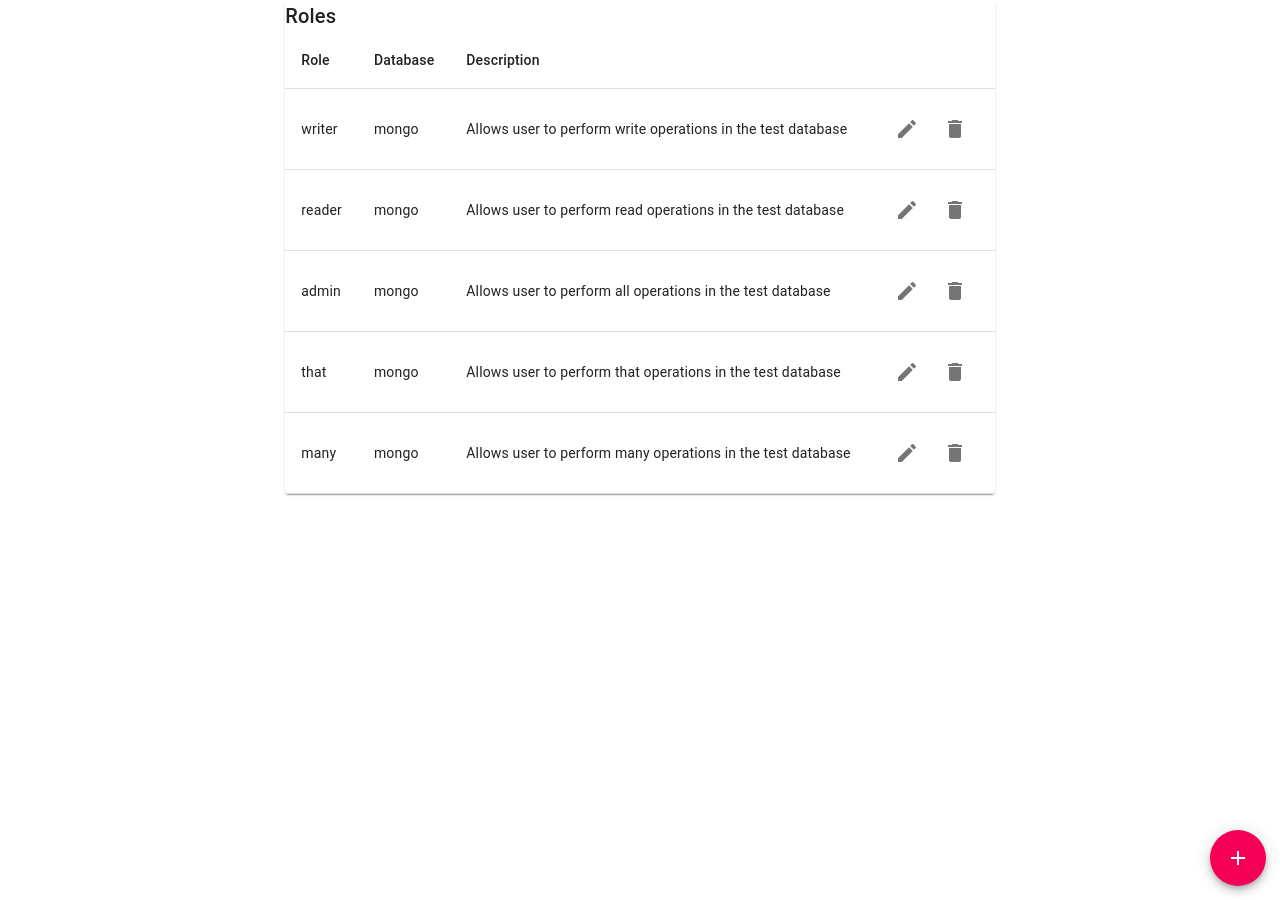
Test: Roles page › deletes a role
Click the button named "delete" in the row of "writer".
click(955, 129)  # box [931, 105, 979, 153]
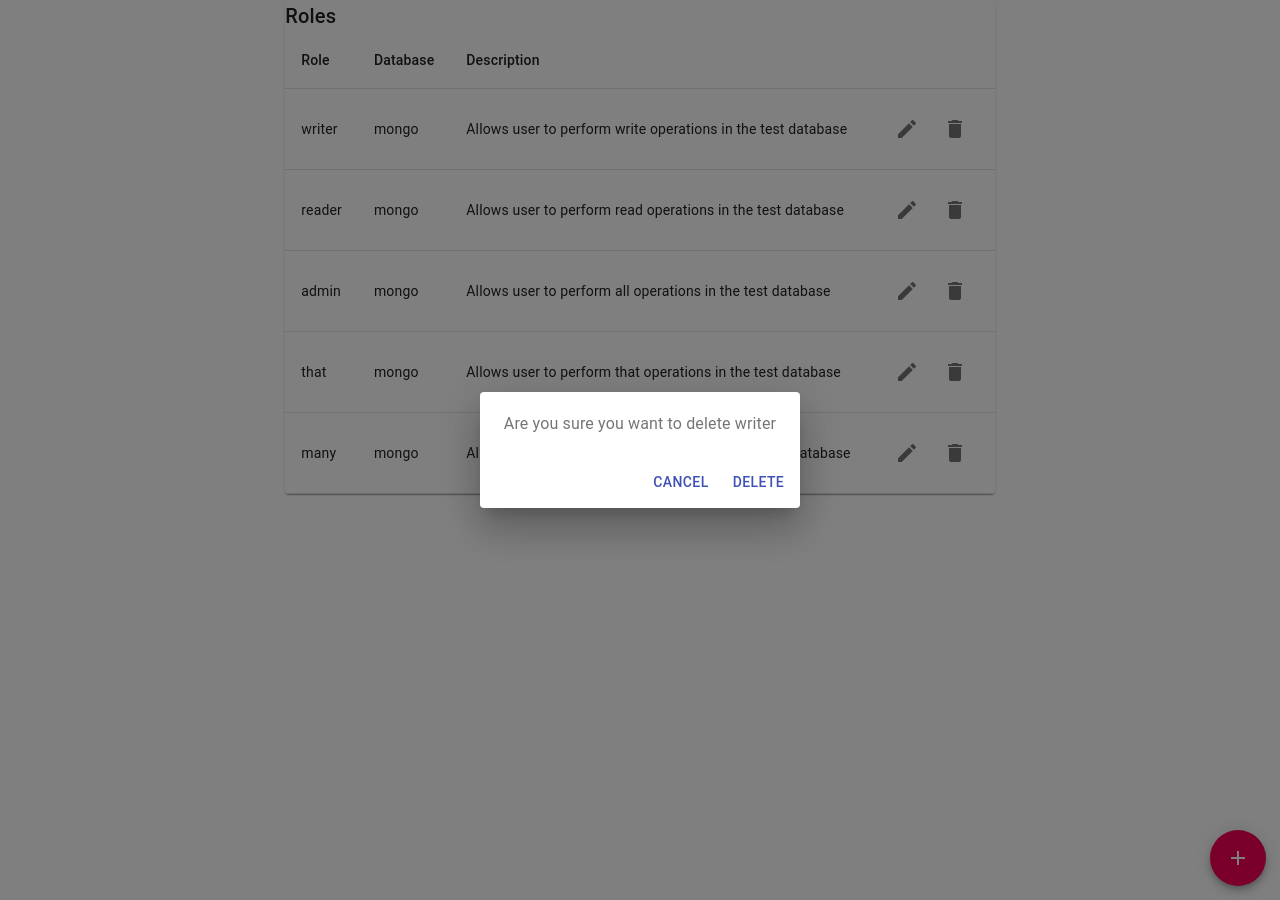
Check: the button with aria-label "confirm delete" is shown
Click the button with aria-label "confirm delete".
click(758, 482)  # box [725, 464, 792, 500]
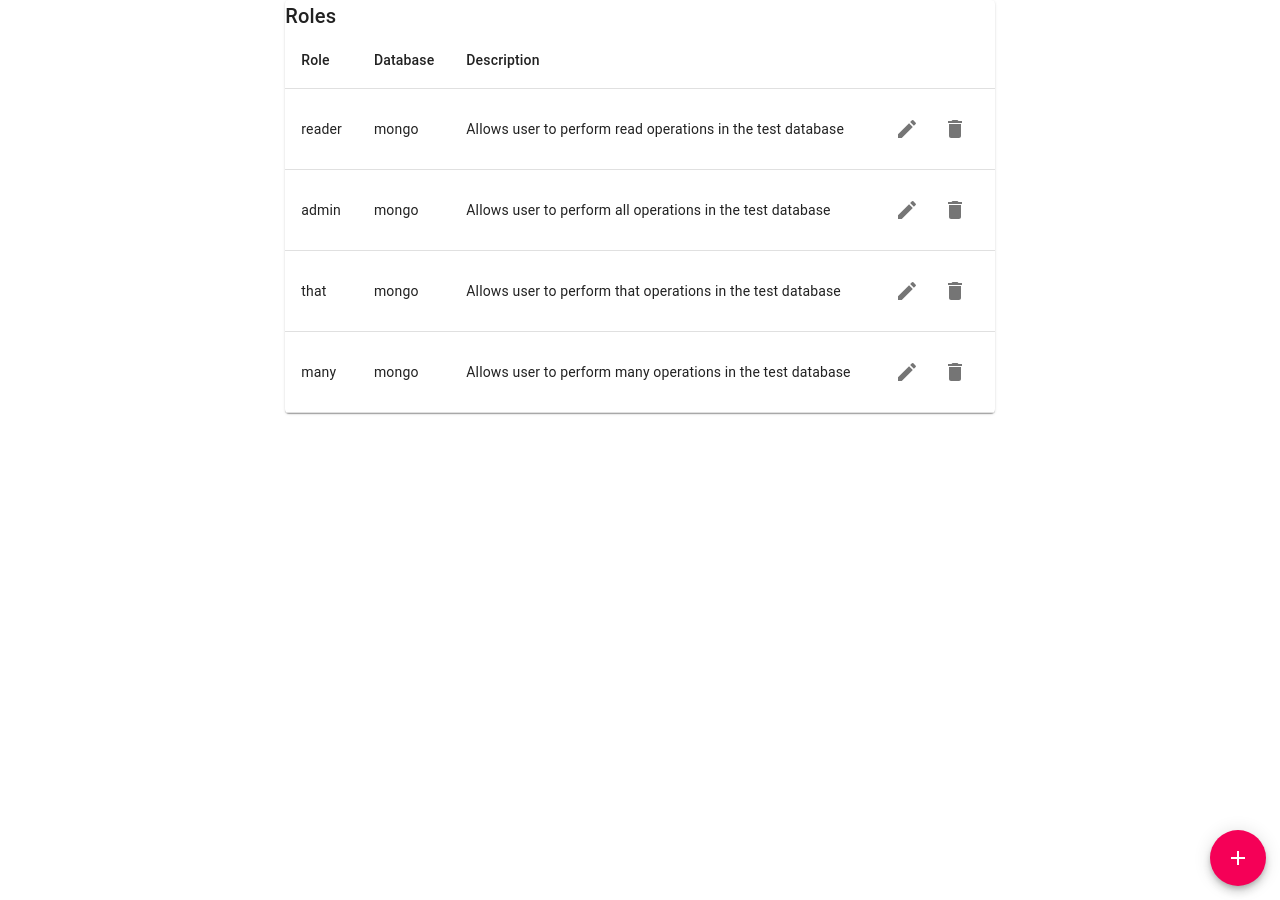
Check: the text "writer" is gone
